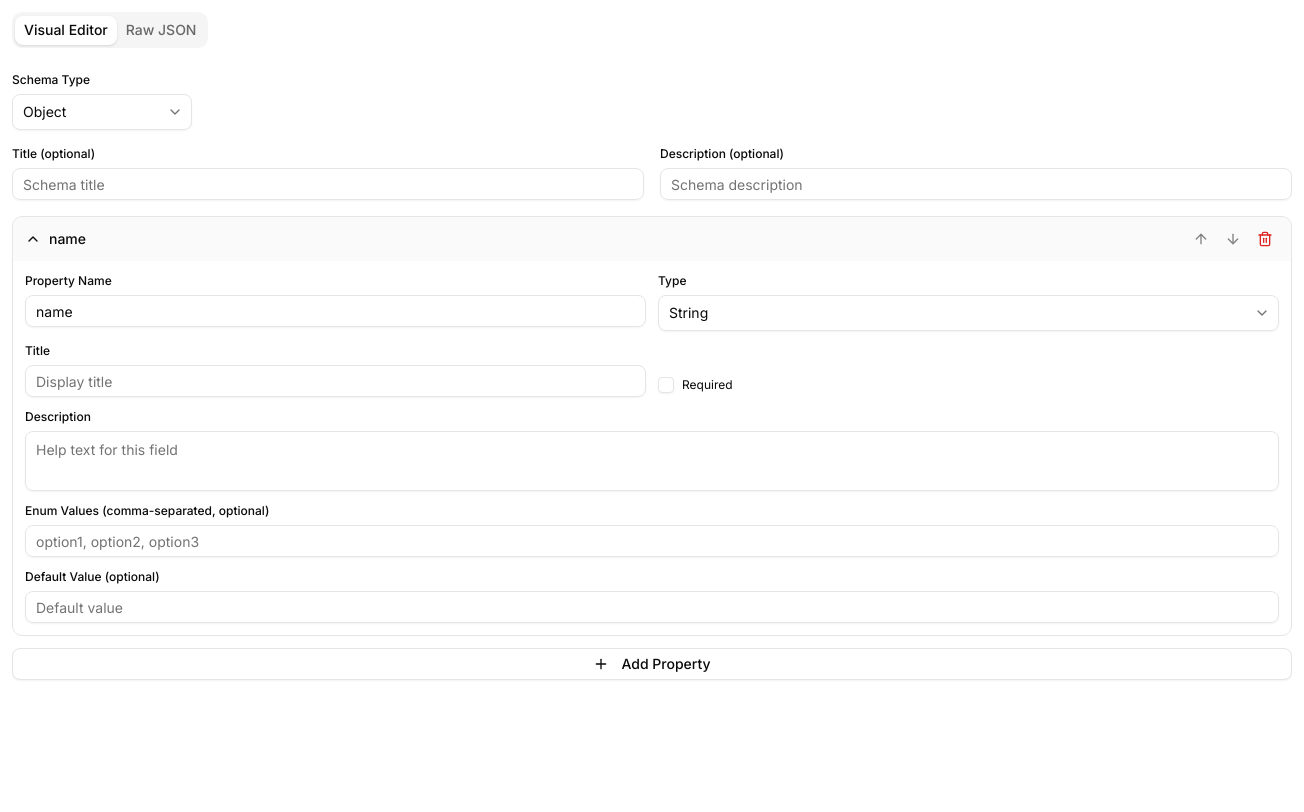
Test: JsonSchemaEditor › switches between visual and raw tabs
# Click on Raw JSON tab
Click the tab "Raw JSON". click: (161, 30)
box: 117,16 -> 206,44
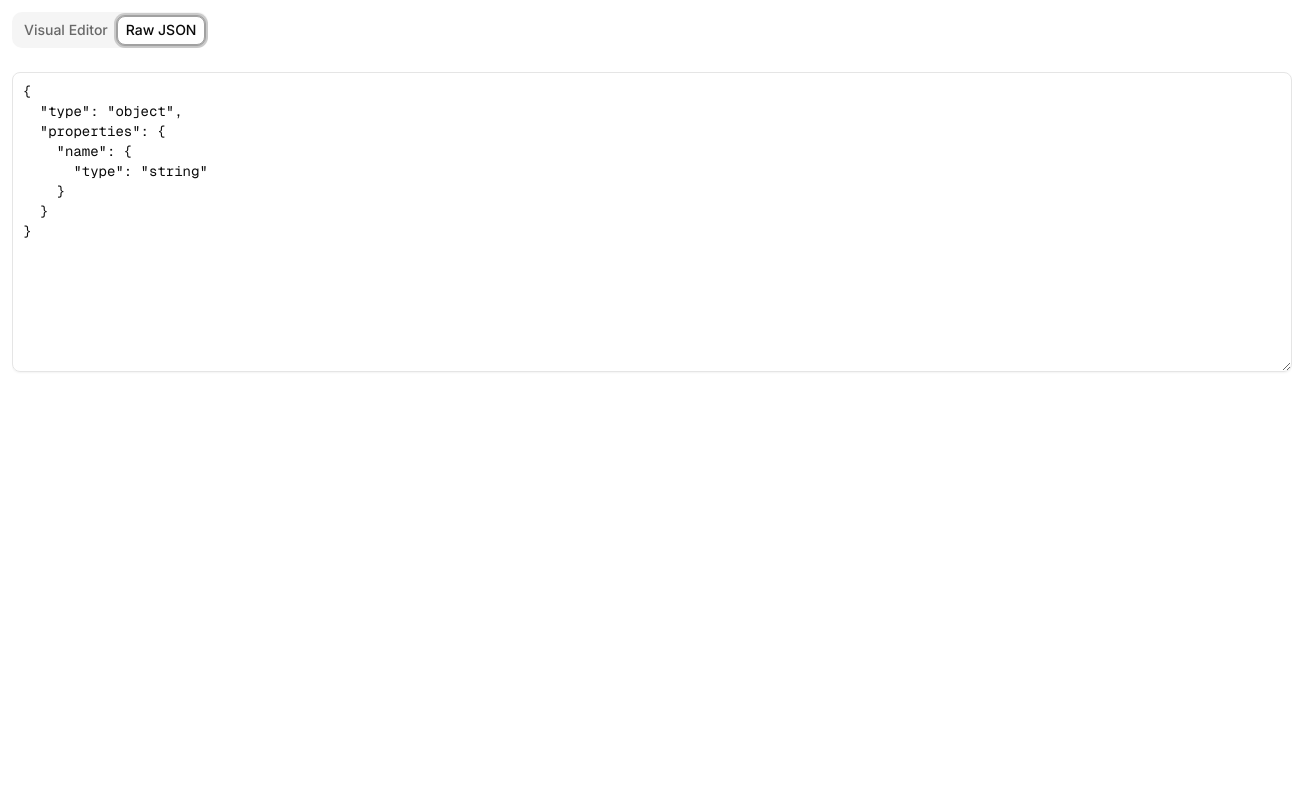
Expected: the text box is shown, 12,72 -> 1292,372
